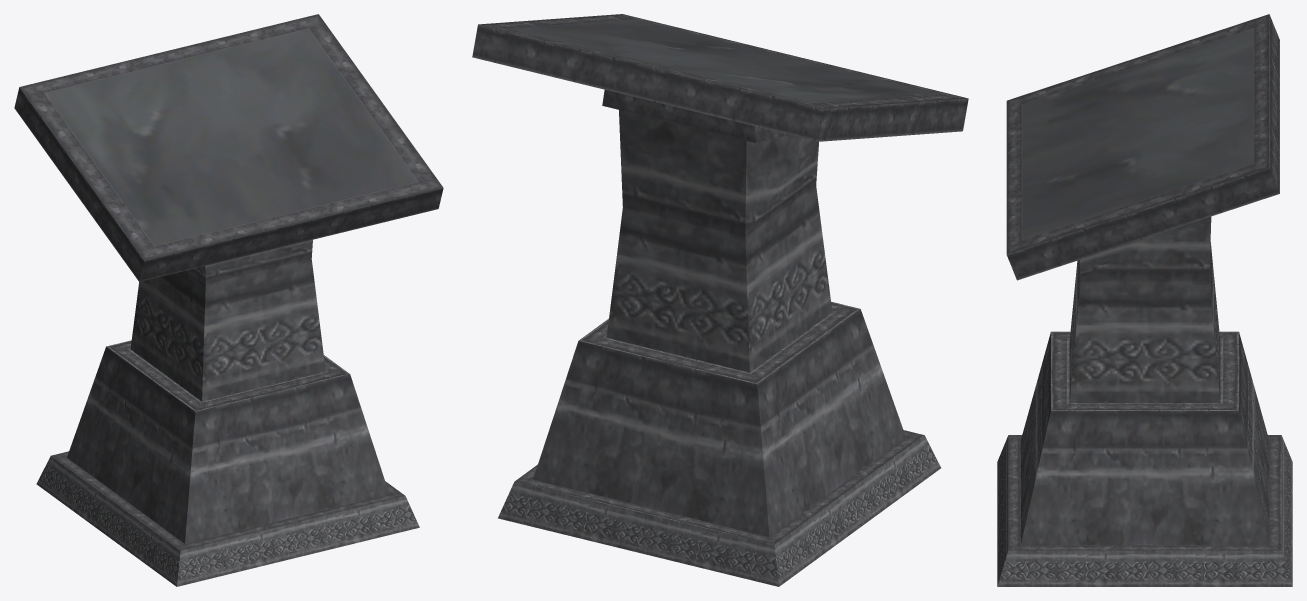
The model's file is toten-02.fbx.
3 views of the same model, side by side, from view 1: azimuth 30°, elevation 25°; view 2: azimuth 150°, elevation 25°; view 3: azimuth 270°, elevation 25° (orthographic). The views are drawn at different scales.
Visible parts, largest first — view 1: Cube.265; view 2: Cube.265; view 3: Cube.265.
Part boxes in pixels (box(x1,y1,x2,y2)): Cube.265: box(14, 14, 443, 586); Cube.265: box(472, 14, 968, 586); Cube.265: box(997, 14, 1292, 586).
Bounding box in the file's own units: 0.832 × 1.09 × 0.6758.
